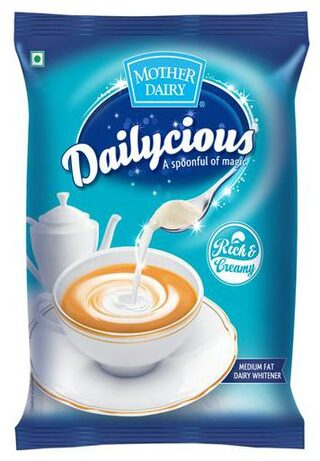Mother_Dairy: (116, 47, 211, 112)
